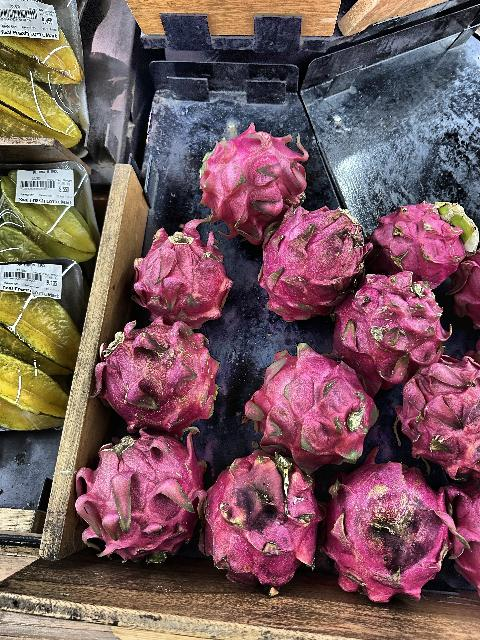buah-naga-matang: (311, 451, 462, 593), (245, 318, 373, 470), (203, 438, 313, 598), (69, 430, 205, 554), (320, 264, 456, 380), (94, 322, 220, 440), (190, 123, 308, 229), (354, 196, 476, 292), (394, 348, 480, 477), (133, 226, 243, 324), (249, 211, 359, 307)
